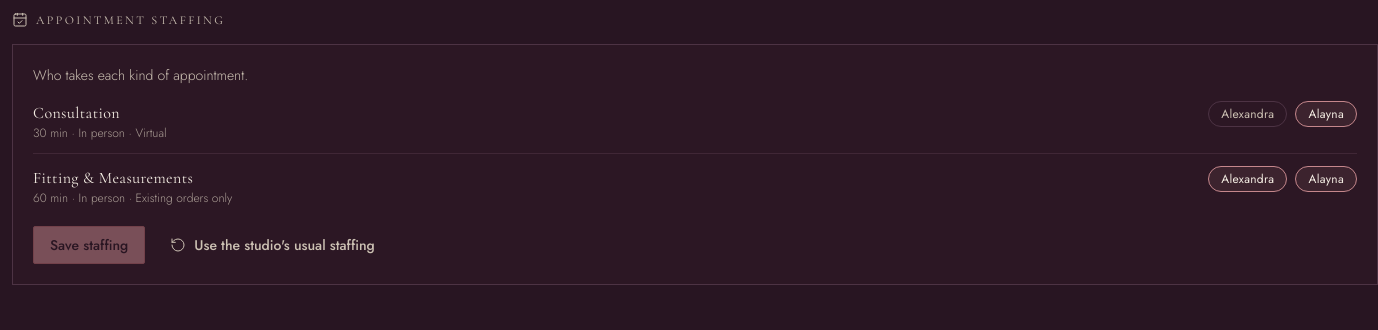
Test: StudioAppointmentStaff › won't save while a type has nobody on it, and says why
This screenshot has width=1378, height=330.
Click the button with test id "appointment-staff-consultation-alayna". click: (1326, 114)
box: top-left (1296, 101), bottom-right (1357, 127)
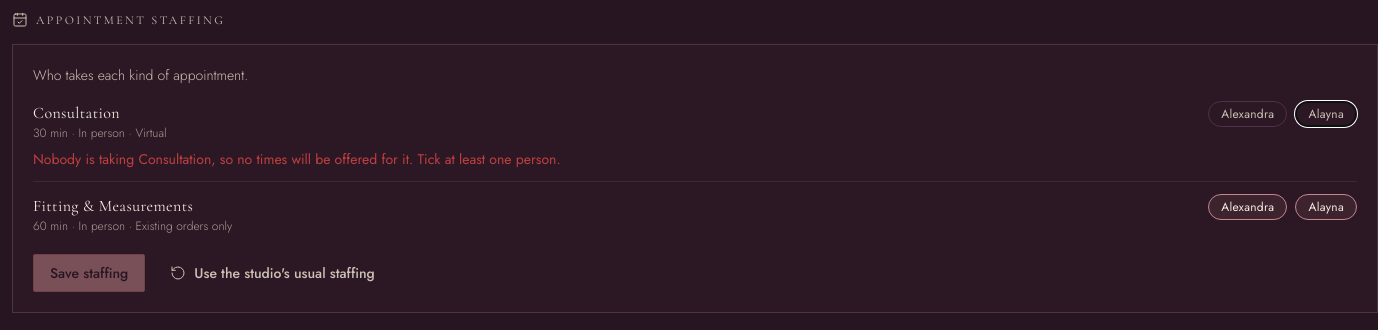
Expected: the button with test id "appointment-staff-save" is disabled, top-left (33, 254), bottom-right (145, 292)
Now the text with test id "appointment-staff-empty-consultation" shows "no times will be offered", box top-left (211, 149), bottom-right (561, 169)
